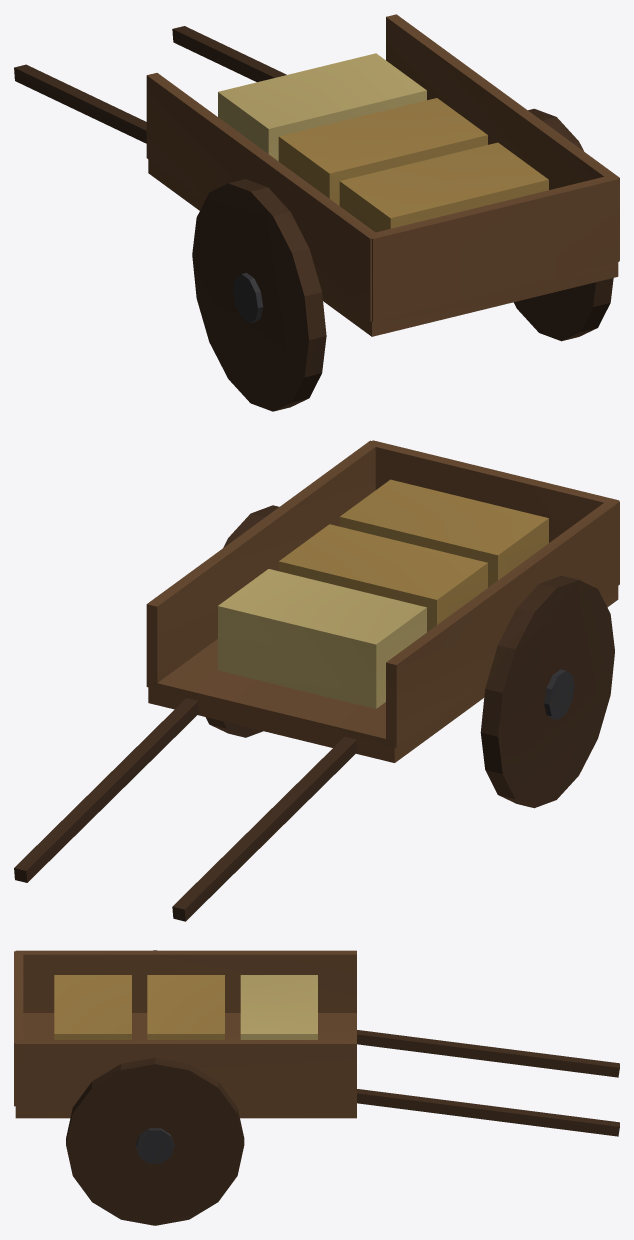
File: cart.glb
3 renders of one model, top to bottom at view 1: azimuth 30°, elevation 25°; view 2: azimuth 150°, elevation 25°; view 3: azimuth 270°, elevation 25°, orthographic. The views are drawn at different scales.
Visible parts, largest first — view 1: cart; view 2: cart; view 3: cart.
Part boxes in pixels (x1,y1,x2,y2): cart: (14, 14, 619, 411); cart: (14, 440, 619, 921); cart: (14, 950, 619, 1225).
Bounding box in the file's own units: 1.8 × 1.22 × 3.91.
